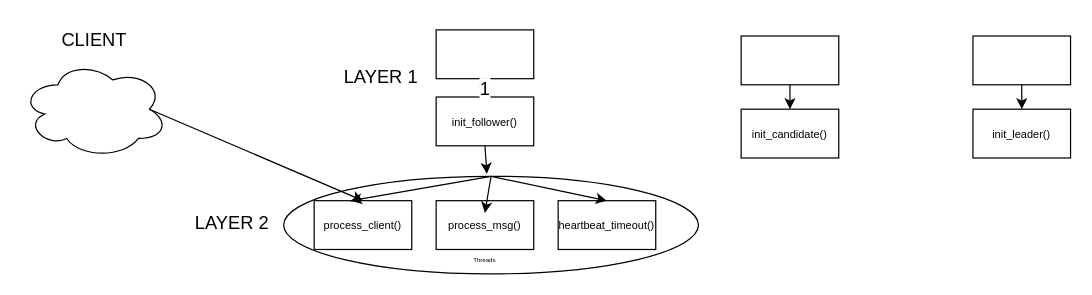
This 1092x295 diagram has some shape labels left out. The shapes that lost their labels are listed below. From the top down, each one's centre as x and y in pixels, then its label:
At point (484, 54): "begin_follower()".
At point (789, 60): "begin_candidacy()".
At point (1021, 60): "begin_leader()".
